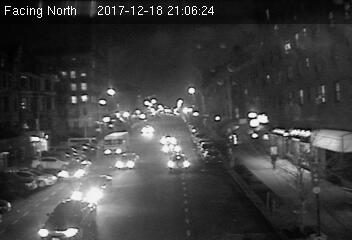car: (37, 199, 96, 240), (70, 174, 114, 205), (58, 156, 92, 183), (113, 153, 142, 169), (167, 153, 190, 172), (203, 149, 221, 162), (161, 143, 182, 151)
truck: (101, 132, 130, 157)
